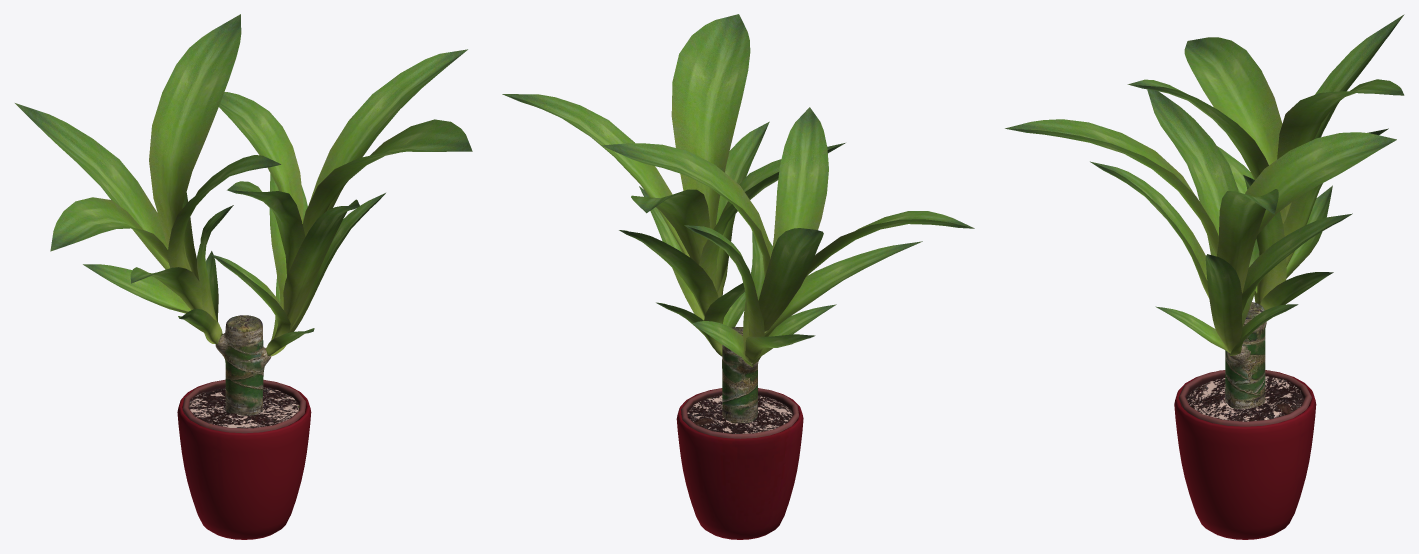
The model's file is indoor plant.fbx.
3 renders of one model, left to right at view 1: azimuth 30°, elevation 25°; view 2: azimuth 150°, elevation 25°; view 3: azimuth 270°, elevation 25°, orthographic. The views are drawn at different scales.
Visible parts, largest first — view 1: indoor plant_02; view 2: indoor plant_02; view 3: indoor plant_02.
Boxes of the visible parts, bbox=[...] form: indoor plant_02: bbox=[15, 14, 472, 539]; indoor plant_02: bbox=[502, 14, 974, 539]; indoor plant_02: bbox=[1005, 14, 1404, 539].
Size of the model in its own units: 682 by 622 by 486.
Materials: 1 (1 with a texture image).
